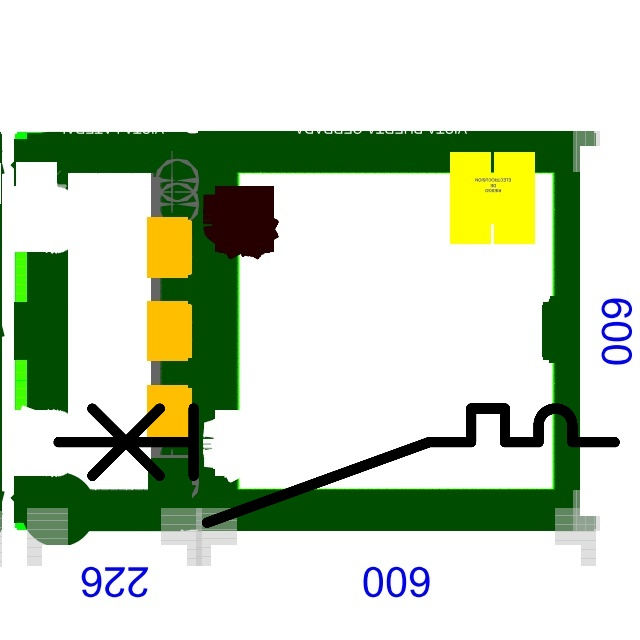interruptor_termomagnetico: (44, 394, 629, 537)
